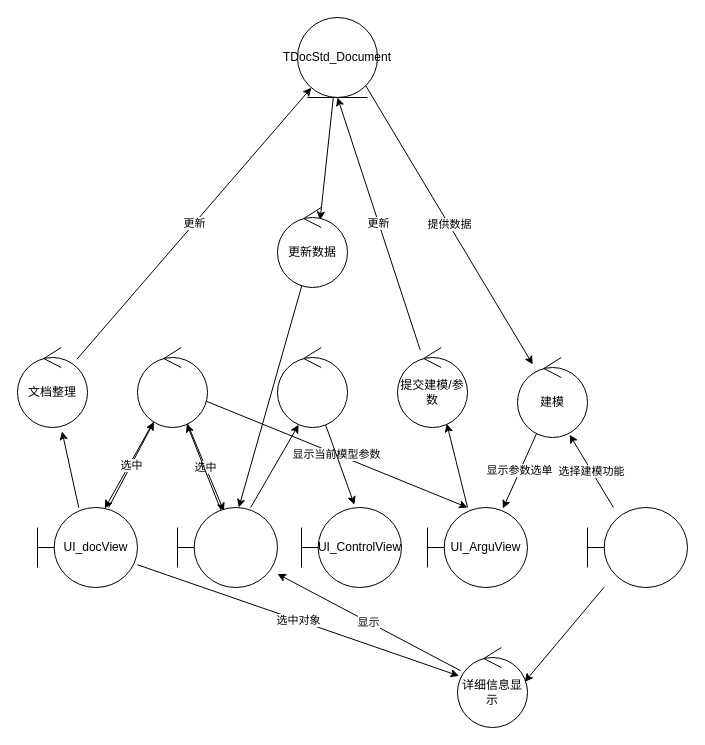
This 705x745 diagram has some shape labels left out. The shapes that lost their labels are listed below. From the top down, each one's centre as x and y in pixels, then its label:
At (172,387): "click".
At (312,387): "鼠标事件".
At (227,547): "UI_DataView".
At (637,547): "UI_menubar".
